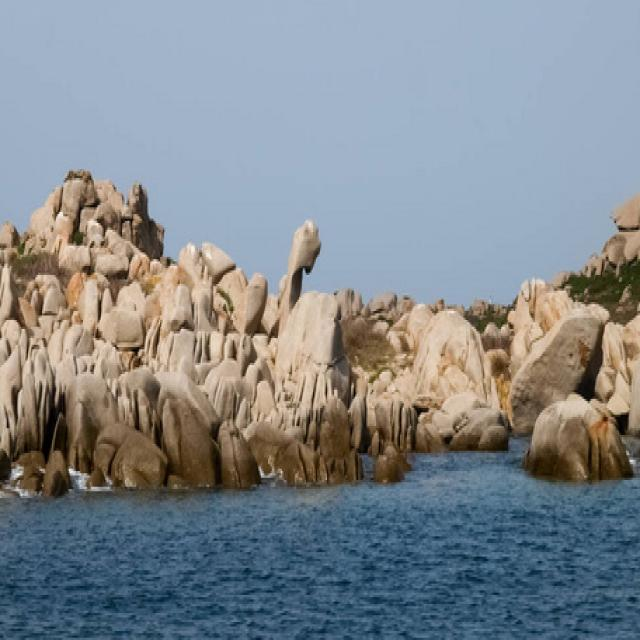reef: (0, 398, 627, 529)
